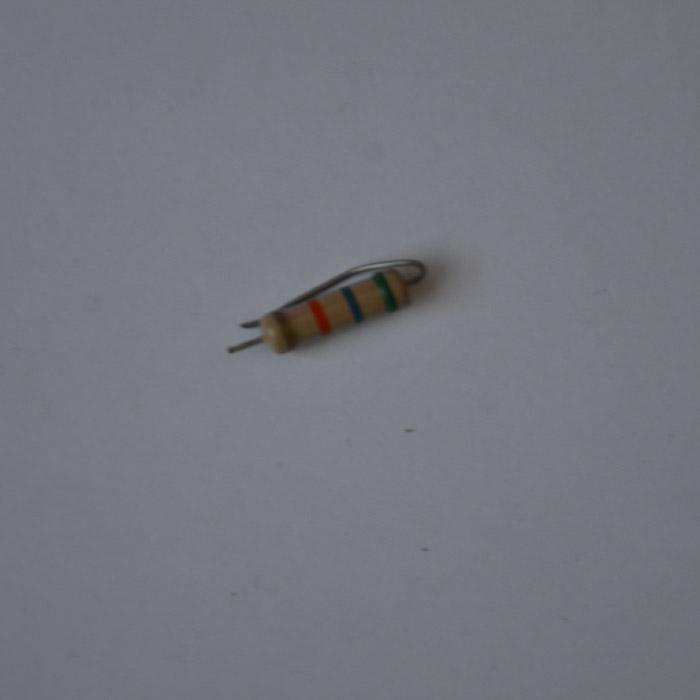resistor: (258, 267, 409, 355)
